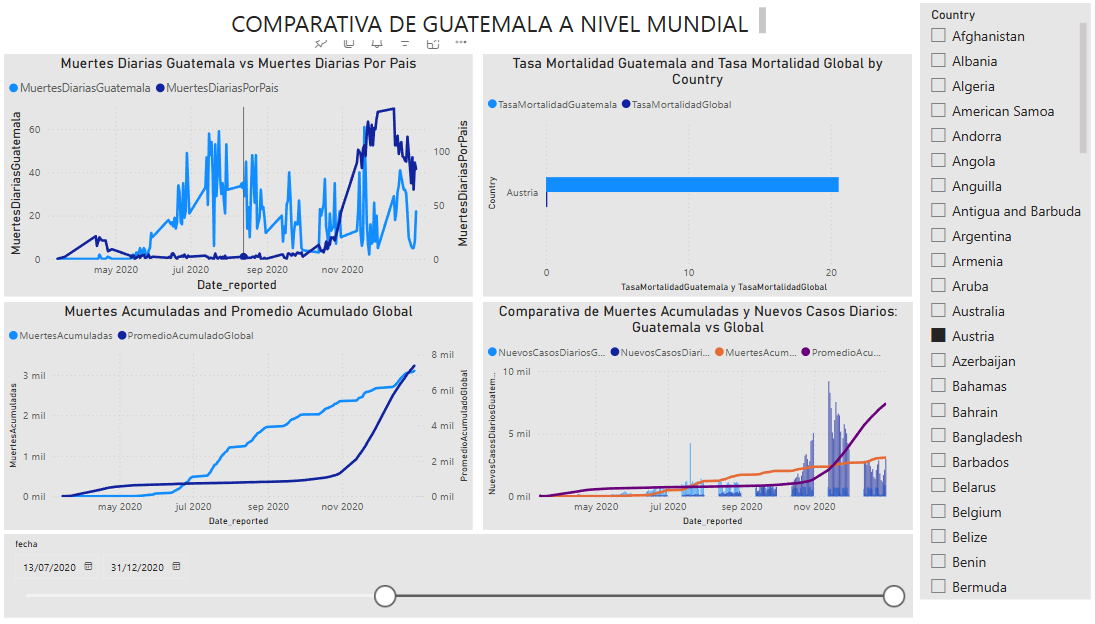

The dashboard page shown, as its layout file describes it:
{"tool":"powerbi","page":{"name":"Dashboard3","canvas":[1280,720],"ordinal":2},"visuals":[{"type":"lineChart","title":"Muertes Diarias Guatemala vs Muertes Diarias Por Pais","fields":{"Category":["reporte_nacional.Date_reported.Variation.Date Hierarchy.Year"],"Y":["reporte_nacional.MuertesDiariasGuatemala"],"Y2":["reporte_global_2020.MuertesDiariasPorPais"]},"box":[8.7,66.7,543.3,280.7],"z":0},{"type":"slicer","fields":{"Values":["reporte_global_2020.Country"]},"box":[1069.3,8.7,198,691.3],"z":1000},{"type":"lineChart","title":"Muertes Acumuladas and Promedio Acumulado Global","fields":{"Y2":["reporte_global_2020.PromedioAcumuladoGlobal"],"Y":["reporte_nacional.MuertesAcumuladas"],"Category":["reporte_nacional.Date_reported"]},"box":[8.7,354.7,543.3,264],"z":2000},{"type":"clusteredBarChart","title":"Tasa Mortalidad Guatemala and Tasa Mortalidad Global by Country","fields":{"Y":["reporte_nacional.TasaMortalidadGuatemala","reporte_global_2020.TasaMortalidadGlobal"],"Category":["reporte_global_2020.Country"]},"box":[563.3,66.7,497.3,280.7],"z":3000},{"type":"lineClusteredColumnComboChart","title":"Comparativa de Muertes Acumuladas y Nuevos Casos Diarios: Guatemala vs Global","fields":{"Category":["reporte_nacional.Date_reported"],"Y2":["reporte_nacional.MuertesAcumuladas","reporte_global_2020.PromedioAcumuladoGlobal"],"Y":["reporte_nacional.NuevosCasosDiariosGuatemala","reporte_global_2020.NuevosCasosDiariosGlobal"]},"box":[563.3,354.7,498,264],"z":4000},{"type":"slicer","fields":{"Values":["evento.fecha"]},"box":[8.7,623.3,1052.7,96.7],"z":5000},{"type":"textbox","box":[254,8.7,642,43.3],"z":6000}]}

Visuals, with their boxes on the page's 1280x720 design canvas (x1, y1, x2, y2). These are canvas units, not pixel positions in the 1095x624 screenshot, which may show the page scaled, cropped or inside an application window:
"Muertes Diarias Guatemala vs Muertes Diarias Por Pais" lineChart: Rect(9, 67, 552, 347)
slicer - reporte_global_2020.Country: Rect(1069, 9, 1267, 700)
"Muertes Acumuladas and Promedio Acumulado Global" lineChart: Rect(9, 355, 552, 619)
"Tasa Mortalidad Guatemala and Tasa Mortalidad Global by Country" clusteredBarChart: Rect(563, 67, 1061, 347)
"Comparativa de Muertes Acumuladas y Nuevos Casos Diarios: Guatemala vs Global" lineClusteredColumnComboChart: Rect(563, 355, 1061, 619)
slicer - evento.fecha: Rect(9, 623, 1061, 720)
textbox: Rect(254, 9, 896, 52)
